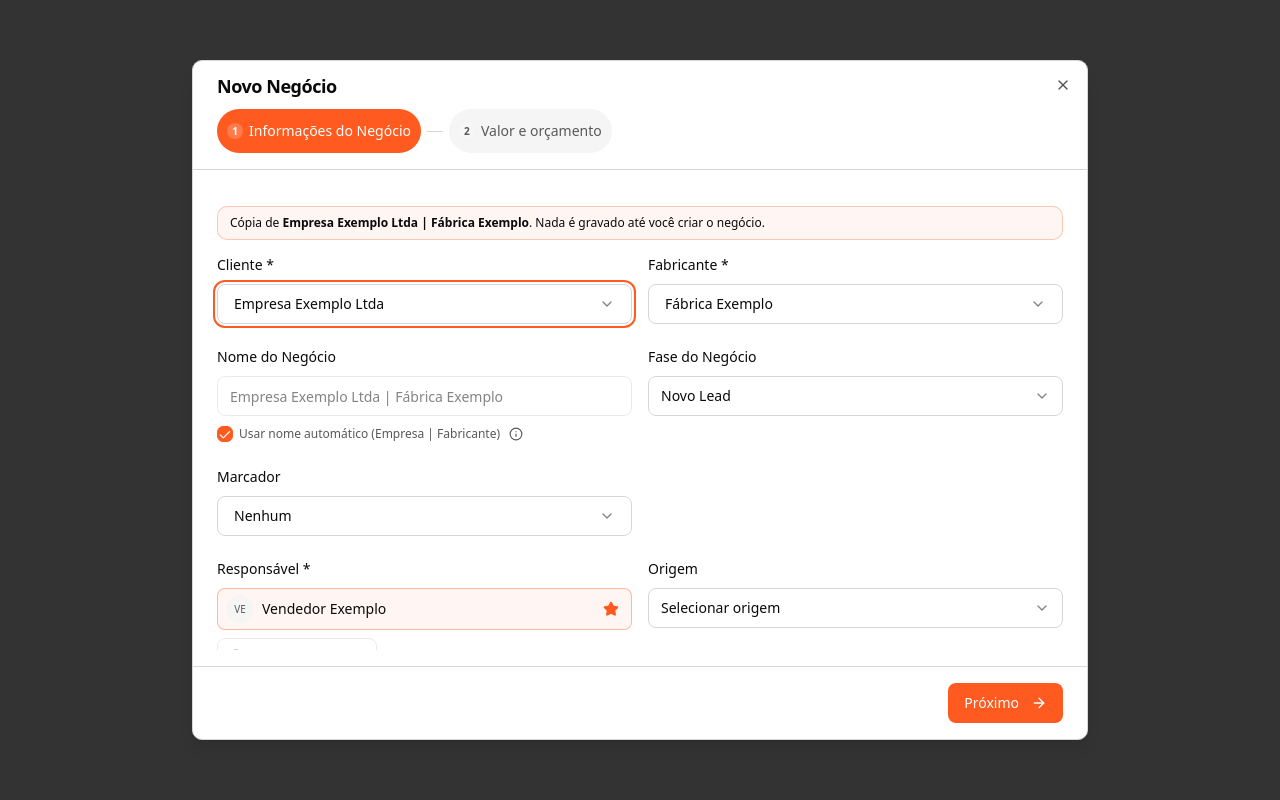
Test case: NovoNegocioDialog — nasce preenchido por uma cópia › os DOIS anexos herdados aparecem no passo 2, com o nome que veio do negócio original
What coordinates should you click on to do the following:
click the button "Próximo"
I would click on:
 (1006, 703)
Its box is [948,683,1063,723].
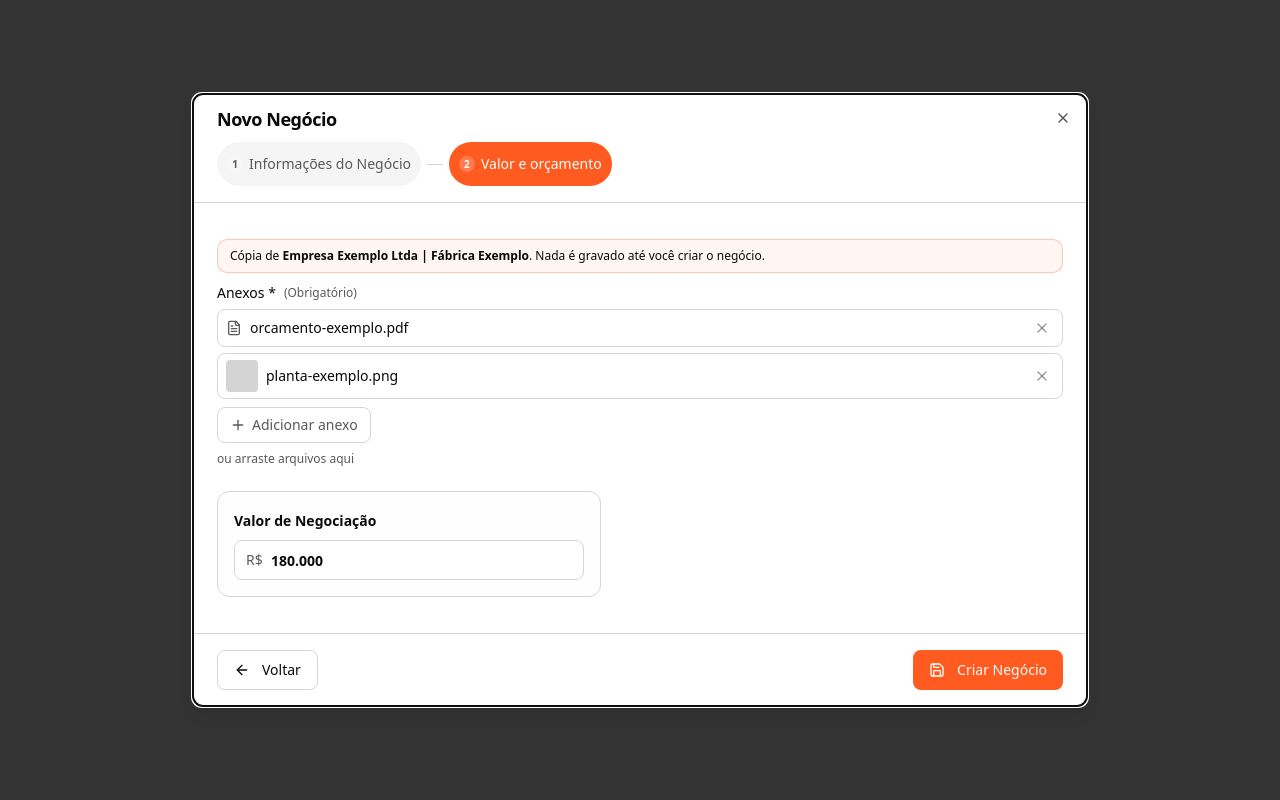
Check: the text "orcamento-exemplo.pdf" is shown, box [250,318,408,337]
Check: the text "planta-exemplo.png" is shown, box [266,366,398,385]
Check: the number of list items with test id "anexo-linha" is 2, box [217,309,1063,347]; [217,353,1063,399]
